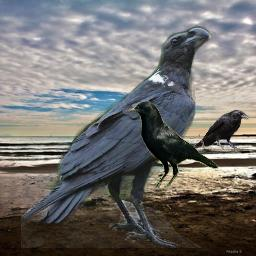Crow: (21, 24, 216, 248), (125, 101, 219, 189), (192, 109, 249, 152)
